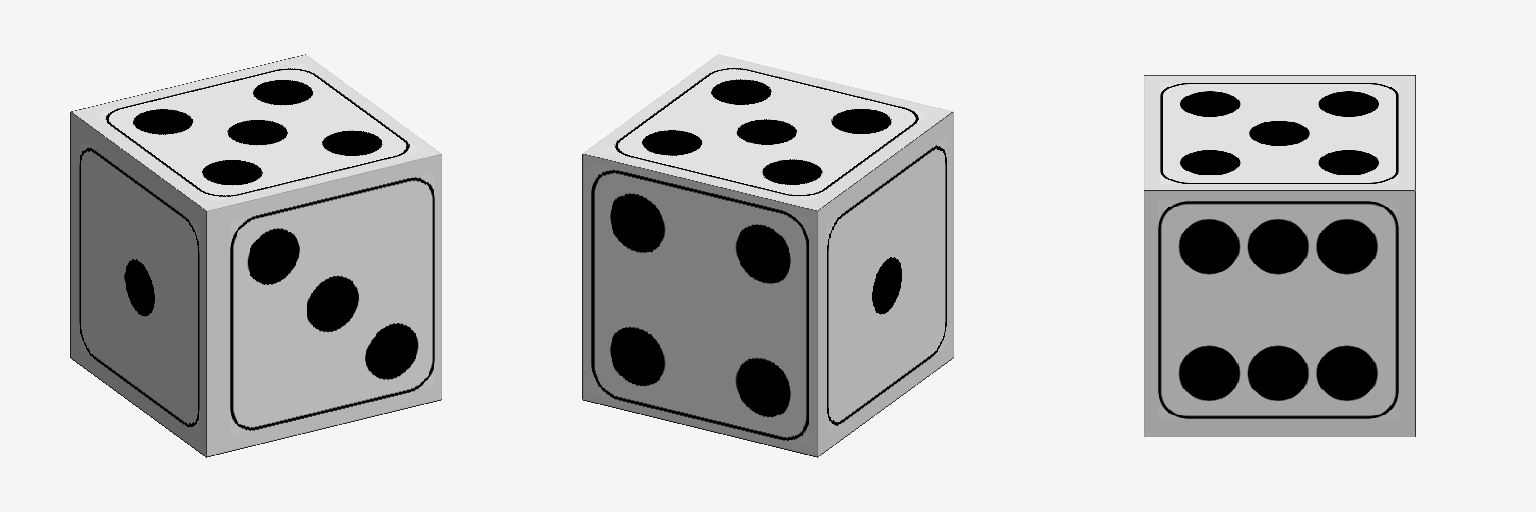
3 views of the same model, side by side, from view 1: azimuth 30°, elevation 25°; view 2: azimuth 150°, elevation 25°; view 3: azimuth 270°, elevation 25° (orthographic).
Parts seen in each view (by area): view 1: Cube.001; view 2: Cube.001; view 3: Cube.001.
Part boxes in pixels (x1,y1,x2,y2): Cube.001: (70, 54, 441, 457); Cube.001: (582, 54, 953, 457); Cube.001: (1144, 75, 1415, 436).
Bounding box in the file's own units: 2 × 2 × 2.
2 materials, 1 textured.